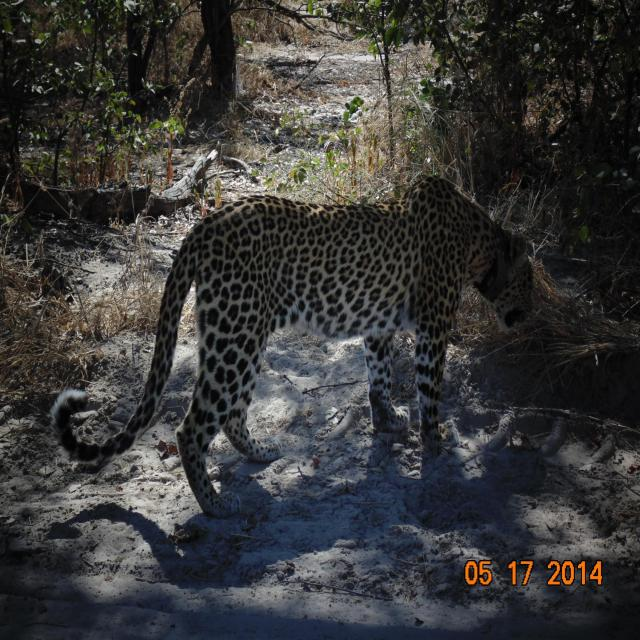Leopard: (82, 170, 569, 508)
